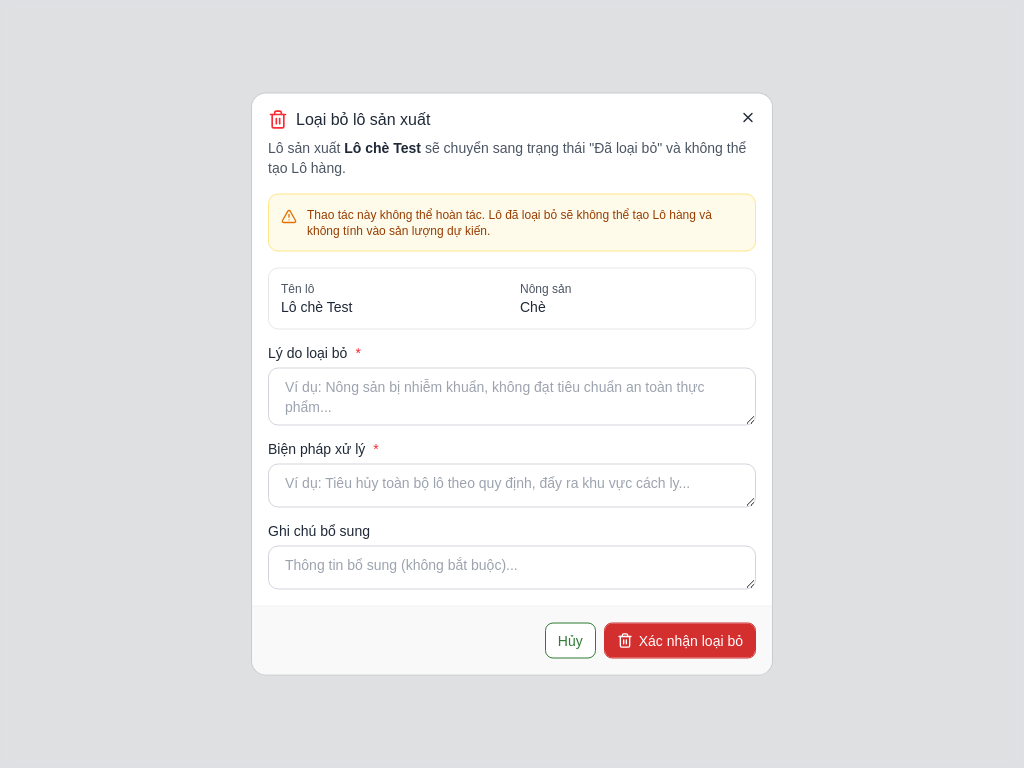
Test: DisposeLotDialog › shows validation error when submitting without handling measure (TC-03)
The image size is (1024, 768).
# Fill only reason, leave handling measure empty
Replace the text in the text box labelled "Lý do loại bỏ *" with "Nông sản không đạt chuẩn" at (512, 396), box [268,368,756,426]
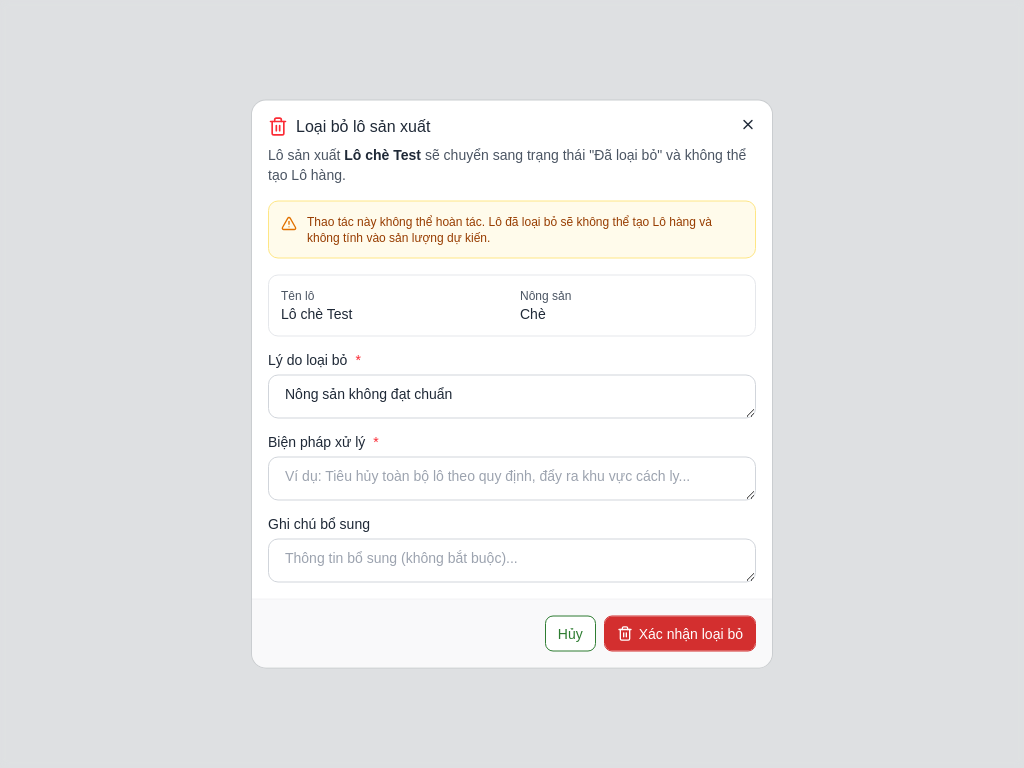
Click the button "Xác nhận loại bỏ" at (680, 634), box [604,616,756,652]
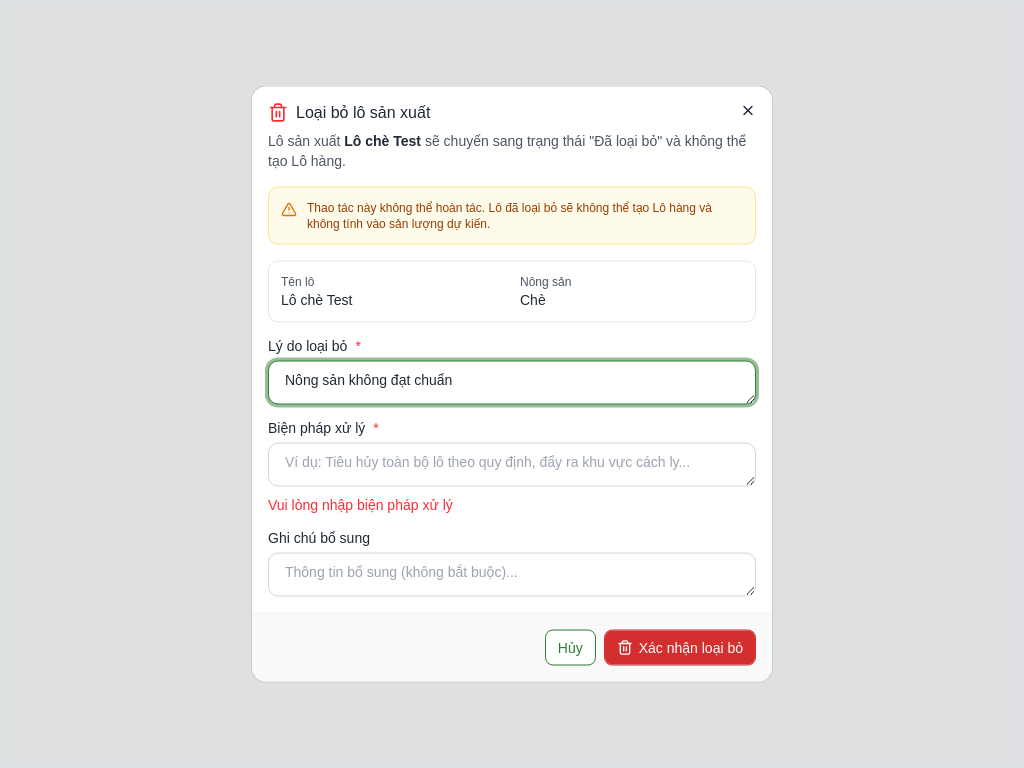
Now the text "Vui lòng nhập biện pháp xử lý" is shown, box [268,496,453,512]
